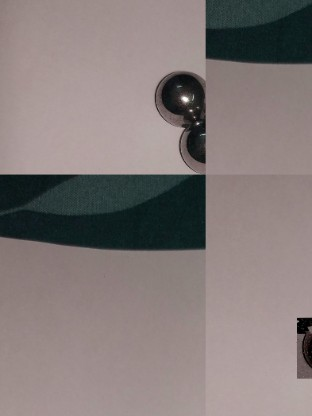ironball: (146, 65, 212, 123), (172, 115, 206, 174), (296, 317, 312, 378)
